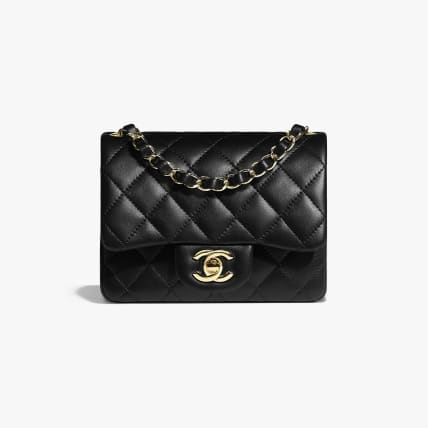channel: (83, 119, 346, 309), (249, 162, 328, 295), (133, 147, 254, 190), (186, 238, 253, 295)
